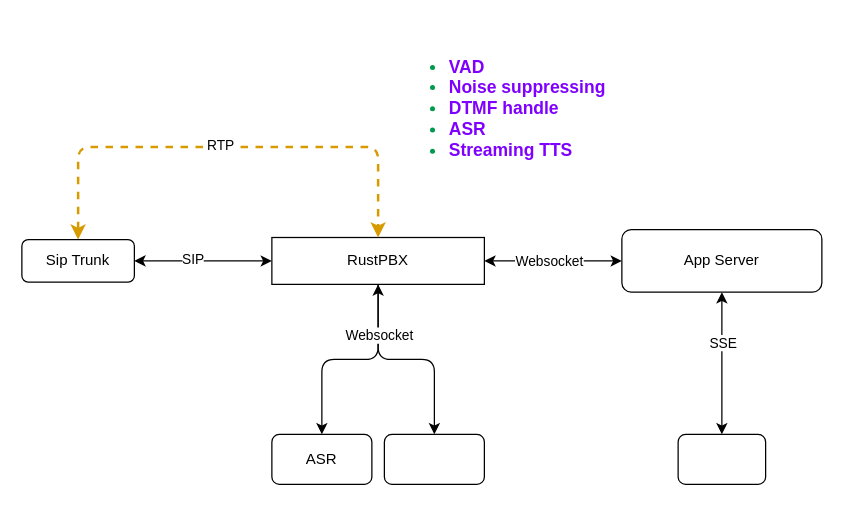
Some shapes in this 844 by 506 pixel diagram are drawn without their labels. The centre of each missing label's shape, as x and y in pixels:
LLM: (x=721, y=458)
TTS: (x=433, y=458)
